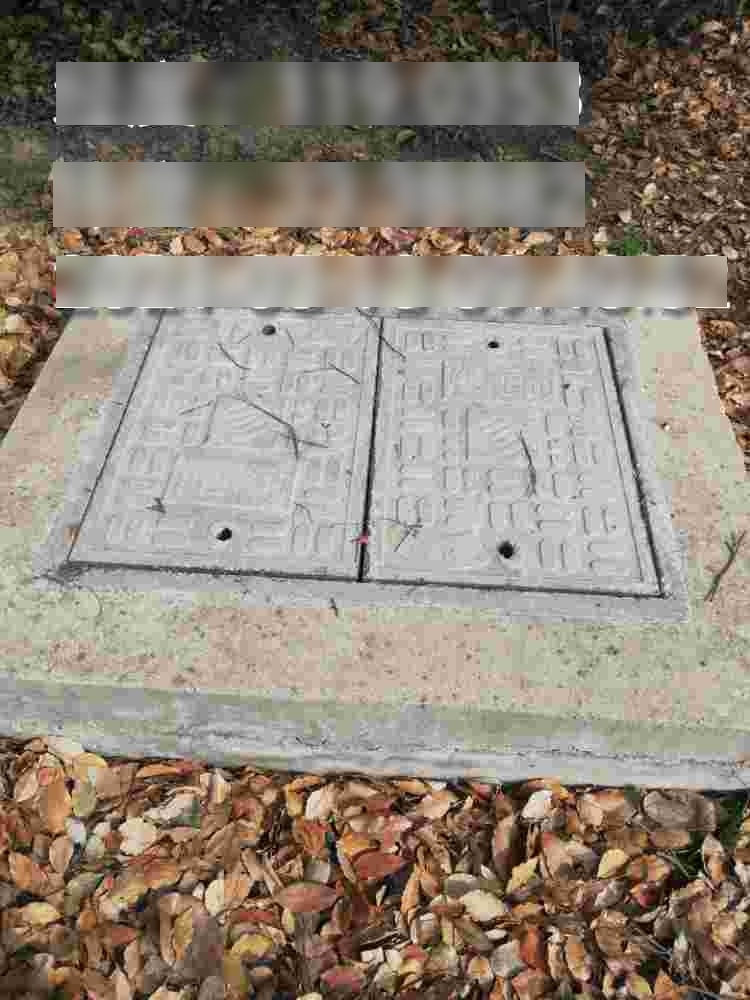good: (37, 293, 690, 616)
